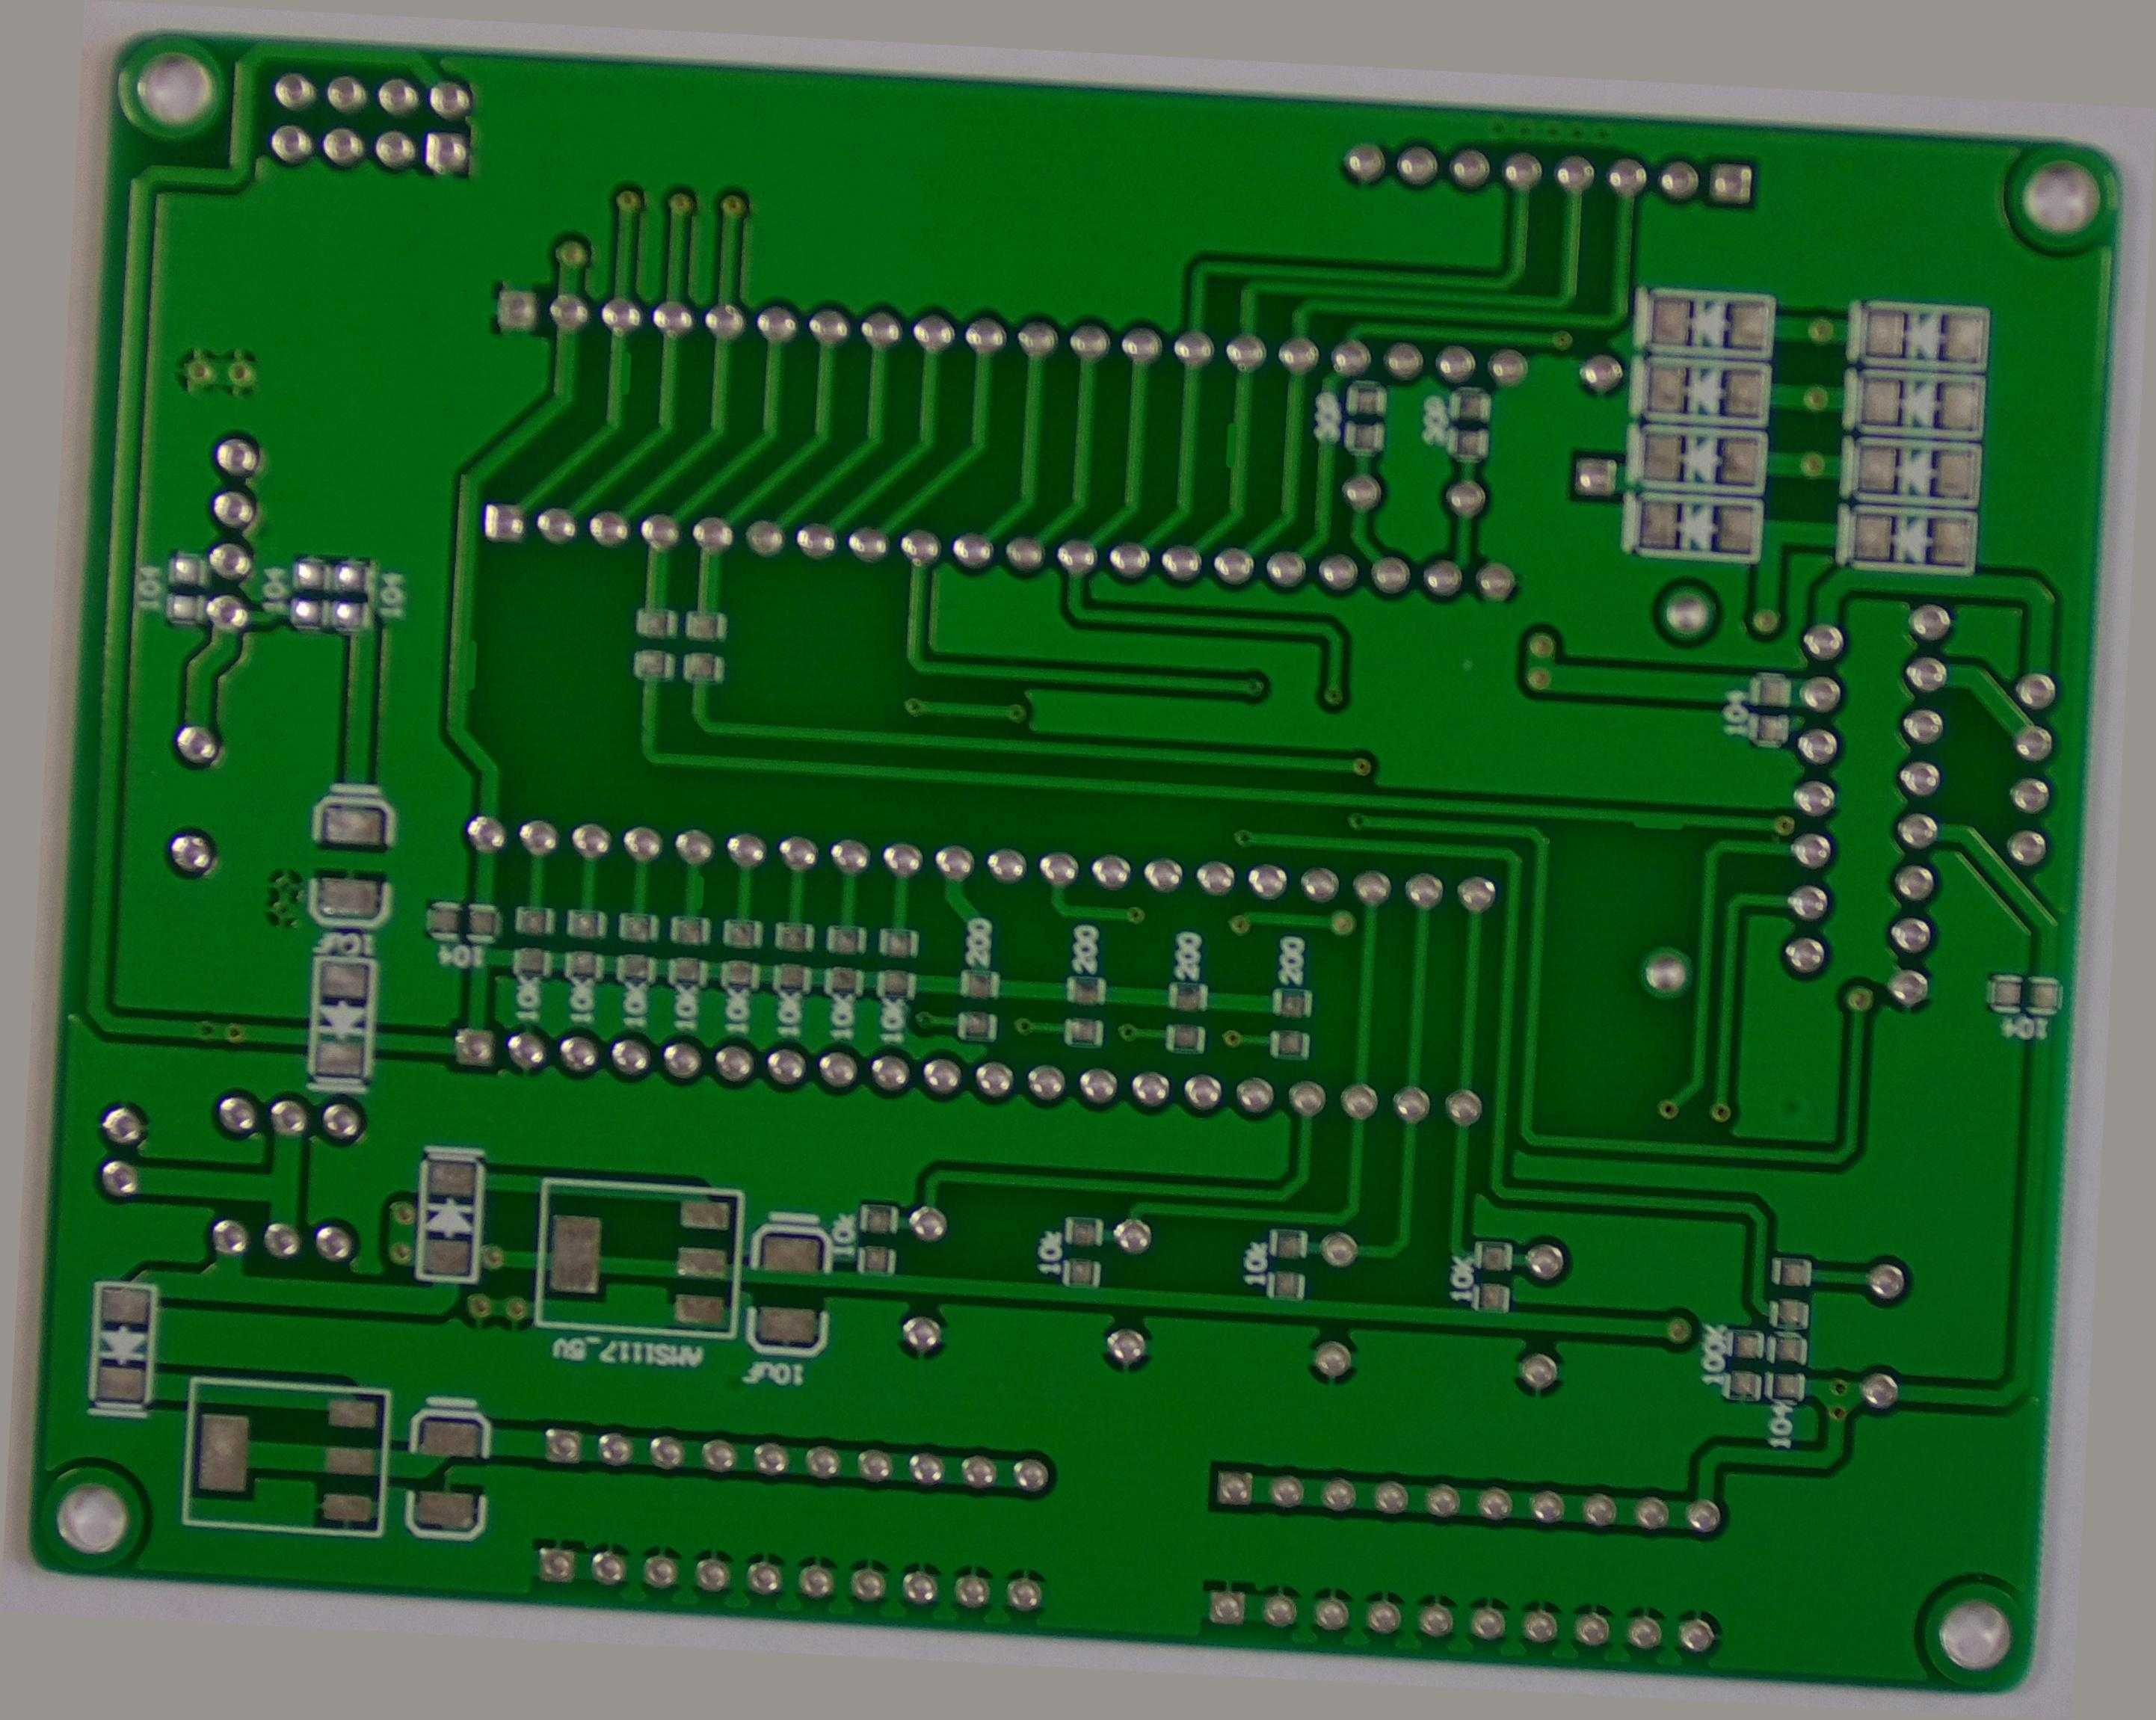spur: (411, 644, 456, 720), (1638, 767, 1715, 806), (1199, 377, 1233, 439), (562, 337, 593, 400), (662, 888, 699, 937)
